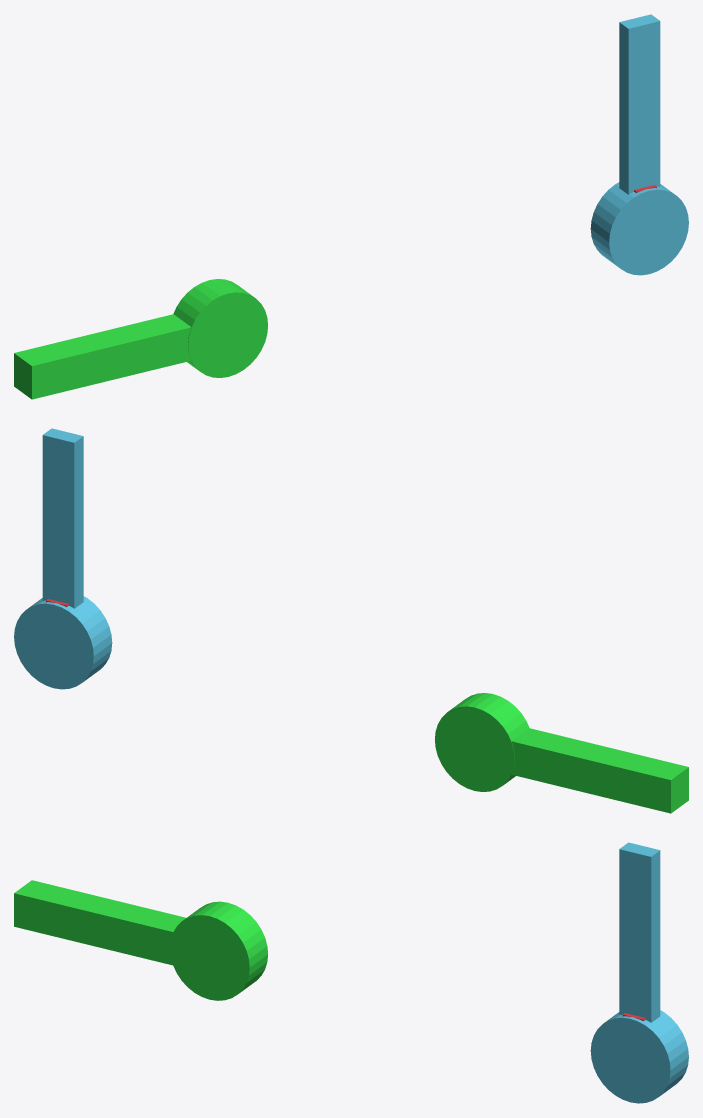
The model's file is bar_thermo.gltf.
3 renders of one model, top to bottom at view 1: azimuth 30°, elevation 25°; view 2: azimuth 150°, elevation 25°; view 3: azimuth 330°, elevation 25°, orthographic.
Parts seen in each view (by area): view 1: Bar, Thermo_Back, Thermo_Base, Axis; view 2: Bar, Thermo_Back, Thermo_Base, Axis; view 3: Bar, Axis, Thermo_Back, Thermo_Base.
Boxes of the visible parts, bbox=[...] form: Bar: bbox=[14, 314, 191, 399]; Thermo_Back: bbox=[619, 14, 660, 194]; Thermo_Base: bbox=[590, 182, 688, 275]; Axis: bbox=[173, 279, 267, 377]; Bar: bbox=[511, 728, 688, 813]; Thermo_Back: bbox=[42, 428, 83, 608]; Thermo_Base: bbox=[14, 596, 112, 689]; Axis: bbox=[435, 693, 529, 791]; Bar: bbox=[14, 880, 185, 965]; Axis: bbox=[170, 901, 267, 1000]; Thermo_Back: bbox=[619, 842, 660, 1022]; Thermo_Base: bbox=[590, 1010, 688, 1103].
Bounding box in the file's own units: 8.23 × 2.94 × 0.4.
